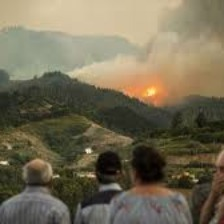incendio: (108, 77, 185, 109)
pessoas: (132, 146, 194, 224), (3, 156, 70, 224), (80, 147, 128, 224)
